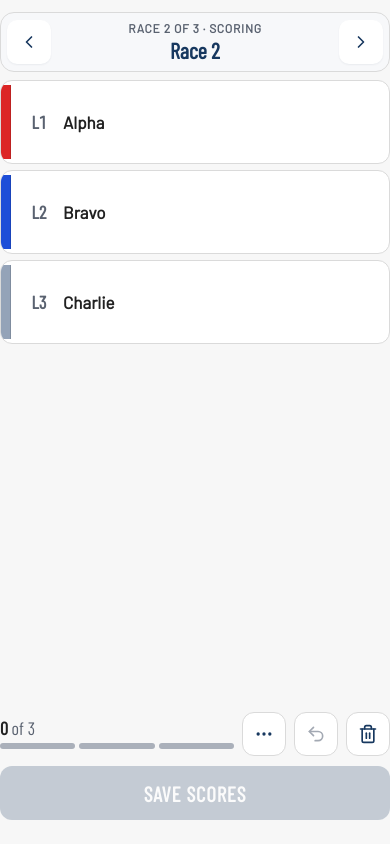
the announcer summary › is not under the race, and opens from Last race in race tools with placings, who is out and the totals
Click the button named "Race tools" at (264, 734), box [242,712,286,756]
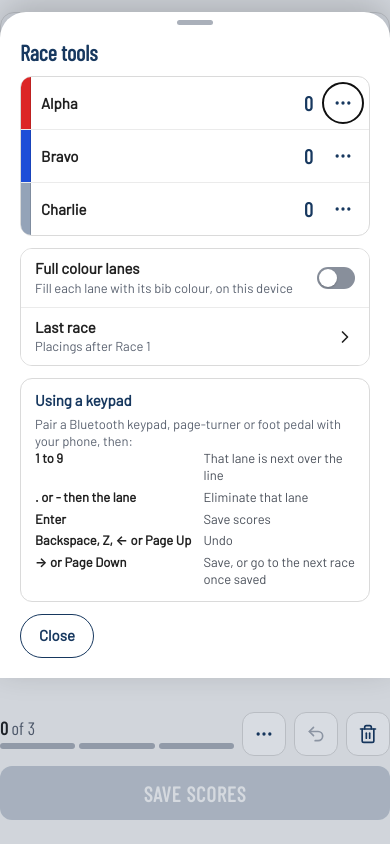
Click the button "Last race Placings after Race 1" at (65, 327), box [21,307,369,365]
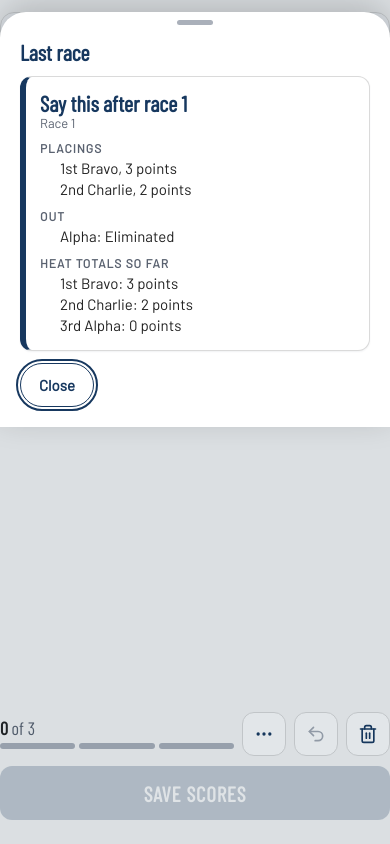
Now the element named "Announcer summary for Race 1" shows "1st Bravo, 3 points", box [20,76,370,351]
Now the element named "Announcer summary for Race 1" shows "Alpha: Eliminated", box [20,76,370,351]
Now the element named "Announcer summary for Race 1" shows "1st Bravo: 3 points", box [60,274,178,292]
Click the button "Close" at (57, 385), box [20,363,94,407]
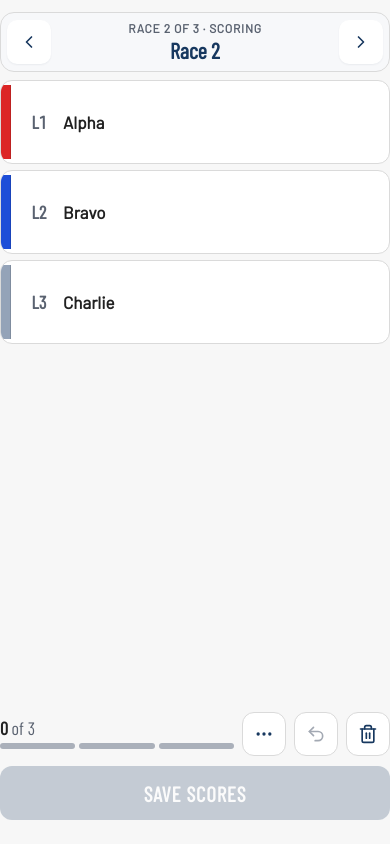
Now the heading "Last race" is gone
